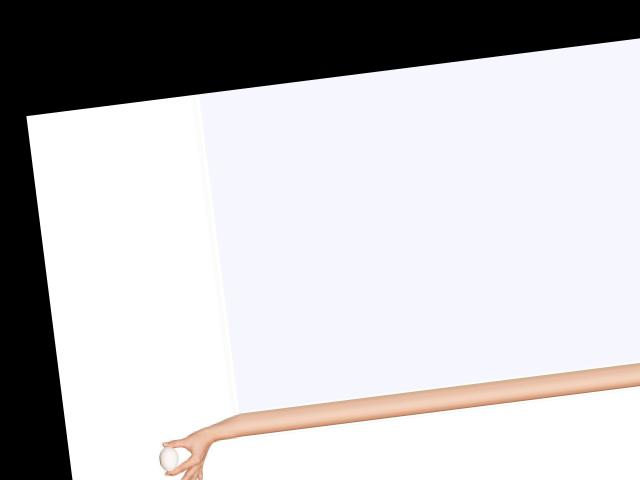egg: (157, 445, 179, 472)
